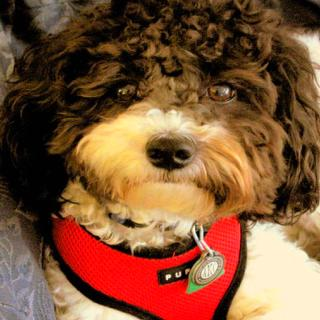dog: (13, 0, 320, 233)
nose: (140, 122, 197, 175)
